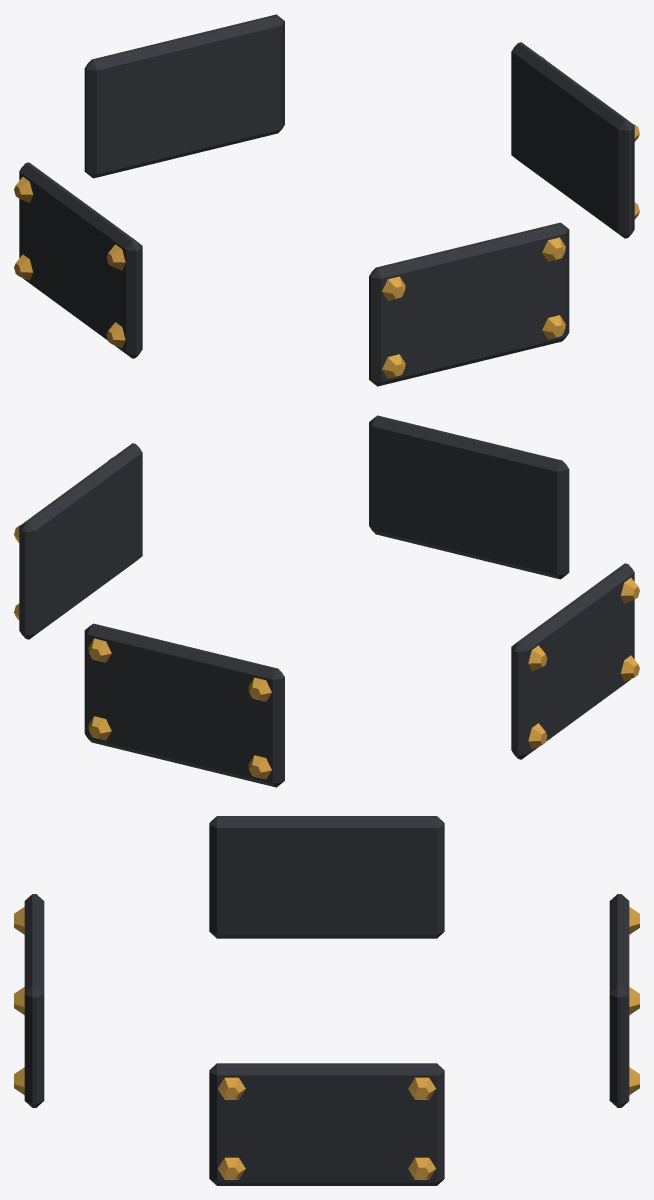
Rendered from HarpoonKit5.obj.
3 views of the same model, one above another, from view 1: azimuth 30°, elevation 25°; view 2: azimuth 150°, elevation 25°; view 3: azimuth 270°, elevation 25° (orthographic). The views are drawn at different scales.
Parts seen in each view (by area): view 1: HarpoonKit5; view 2: HarpoonKit5; view 3: HarpoonKit5.
Boxes of the visible parts, bbox=[...] form: HarpoonKit5: bbox=[14, 14, 639, 386]; HarpoonKit5: bbox=[14, 415, 639, 787]; HarpoonKit5: bbox=[14, 816, 639, 1185].
Bounding box in the file's own units: 0.797 × 0.17 × 0.797.
